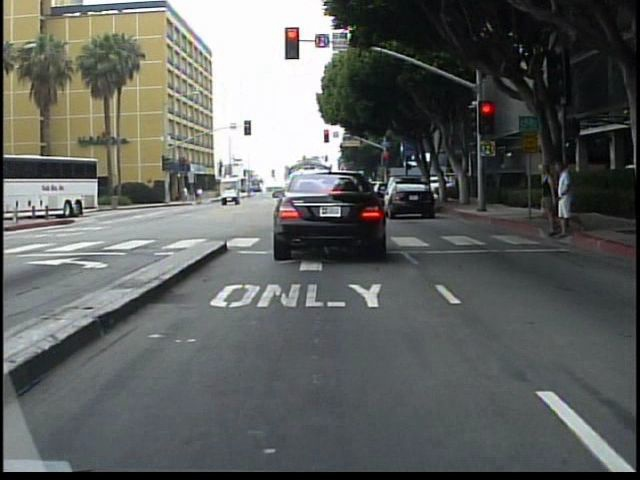person: (554, 160, 578, 239), (535, 161, 556, 239)
